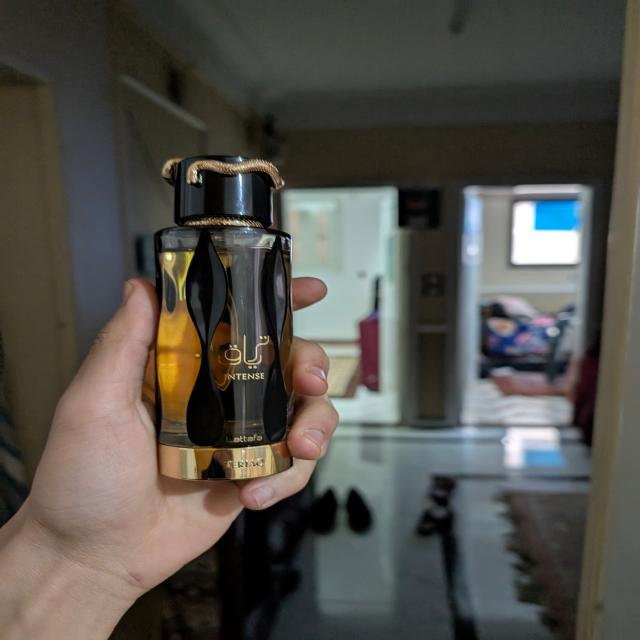Teriaq-Intense: (152, 154, 295, 481)
